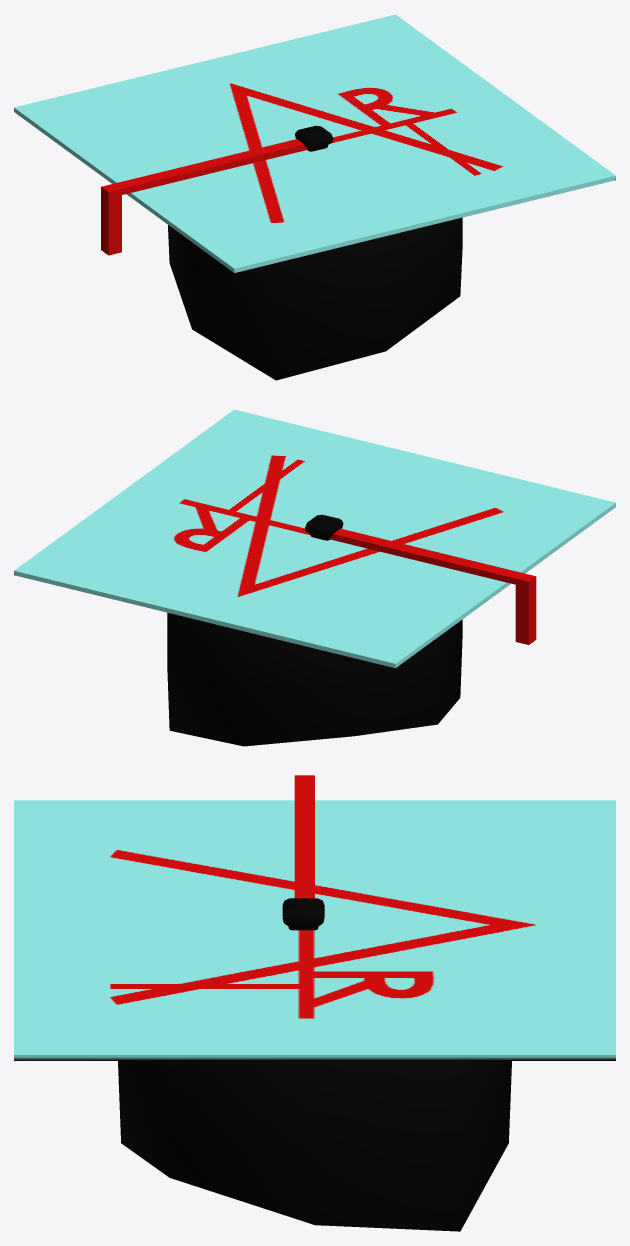
The model's file is Art Sign Cap.fbx.
The picture shows the model from 3 angles, top to bottom: view 1: azimuth 30°, elevation 25°; view 2: azimuth 150°, elevation 25°; view 3: azimuth 270°, elevation 25°; orthographic projection. The views are drawn at different scales.
Parts seen in each view (by area): view 1: Cap; view 2: Cap; view 3: Cap.
Part boxes in pixels (x1=…): Cap: x1=14, y1=14, x2=615, y2=380; Cap: x1=14, y1=409, x2=615, y2=746; Cap: x1=14, y1=775, x2=615, y2=1231.
Size of the model in its own units: 1.06 by 0.48 by 1.
